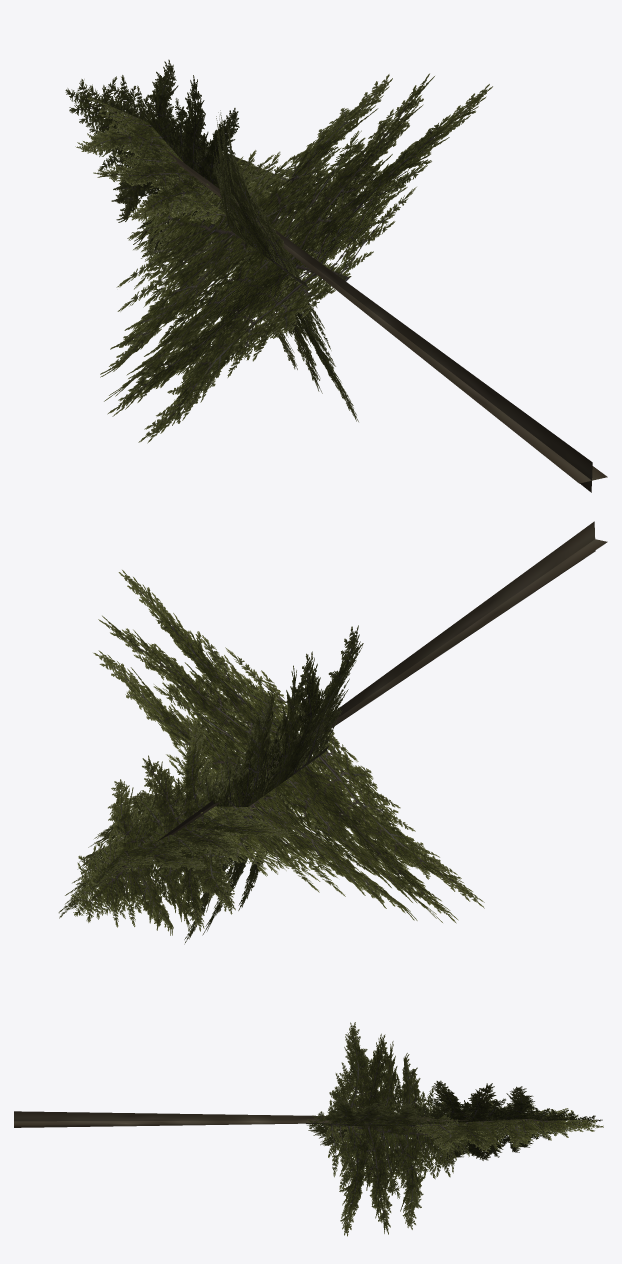
The model's file is MEP_Con_01_c_LOD_02.fbx.
3 views of the same model, one above another, from view 1: azimuth 30°, elevation 25°; view 2: azimuth 150°, elevation 25°; view 3: azimuth 270°, elevation 25° (orthographic). The views are drawn at different scales.
Visible parts, largest first — view 1: MEP_Con_01_c_LOD_02; view 2: MEP_Con_01_c_LOD_02; view 3: MEP_Con_01_c_LOD_02.
Part boxes in pixels (bbox=[...]): MEP_Con_01_c_LOD_02: bbox=[65, 59, 607, 492]; MEP_Con_01_c_LOD_02: bbox=[58, 521, 607, 944]; MEP_Con_01_c_LOD_02: bbox=[14, 1022, 603, 1236].
Size of the model in its own units: 12.12 by 10.24 by 27.66.
